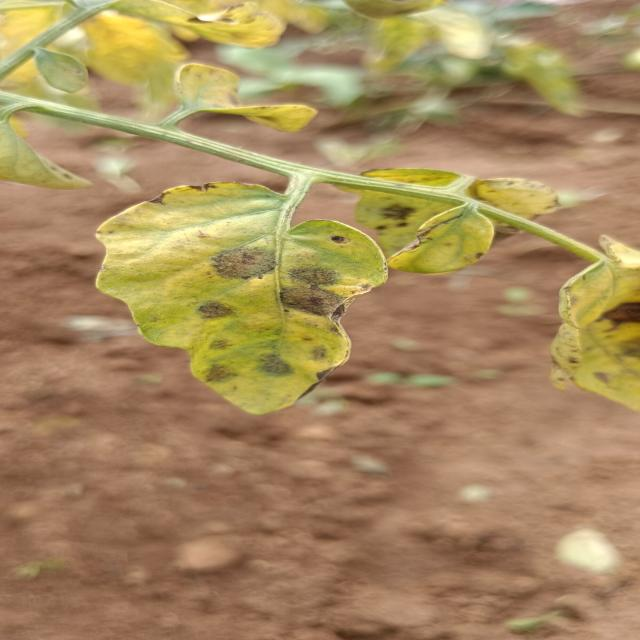tomato_early blight: (95, 182, 385, 414), (353, 162, 565, 269), (537, 232, 640, 411), (63, 0, 294, 69), (161, 56, 317, 140), (386, 202, 494, 274)
